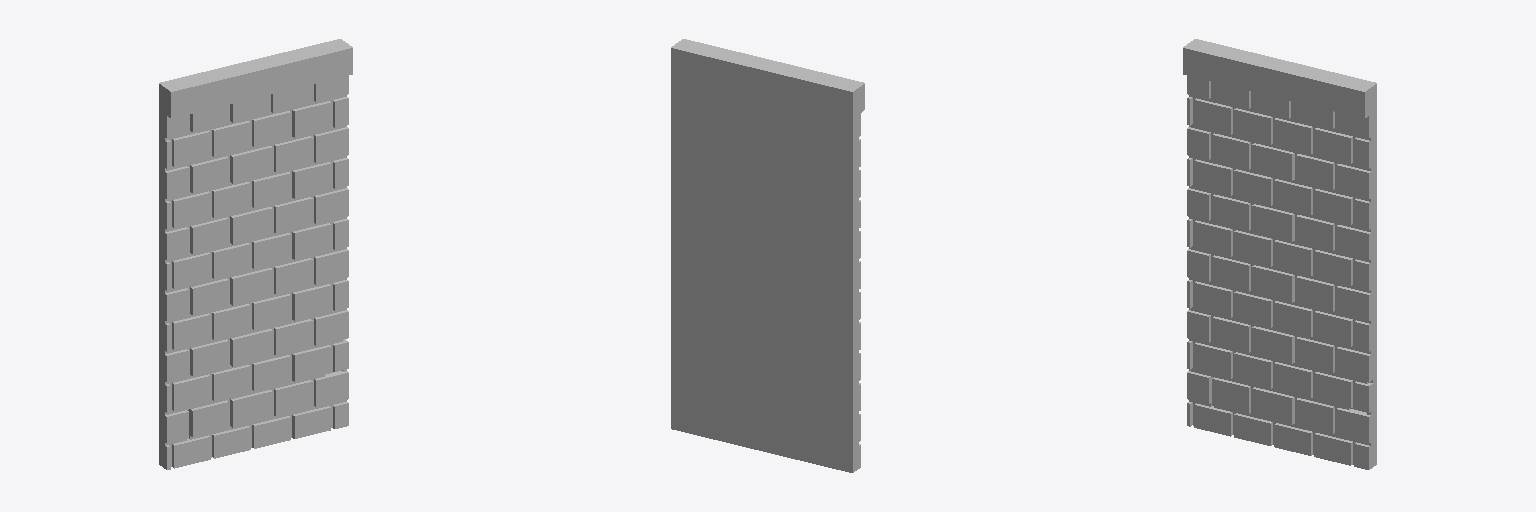
File: starter wall.obj
The picture shows the model from 3 angles: view 1: azimuth 30°, elevation 25°; view 2: azimuth 150°, elevation 25°; view 3: azimuth 330°, elevation 25°; orthographic projection.
Visible parts, largest first — view 1: starter wall; view 2: starter wall; view 3: starter wall.
Part boxes in pixels (left/top/right/bottom): starter wall: left=159, top=39, right=352, bottom=469; starter wall: left=671, top=39, right=864, bottom=472; starter wall: left=1183, top=39, right=1376, bottom=469.
Size of the model in its own units: 50 by 100 by 6.